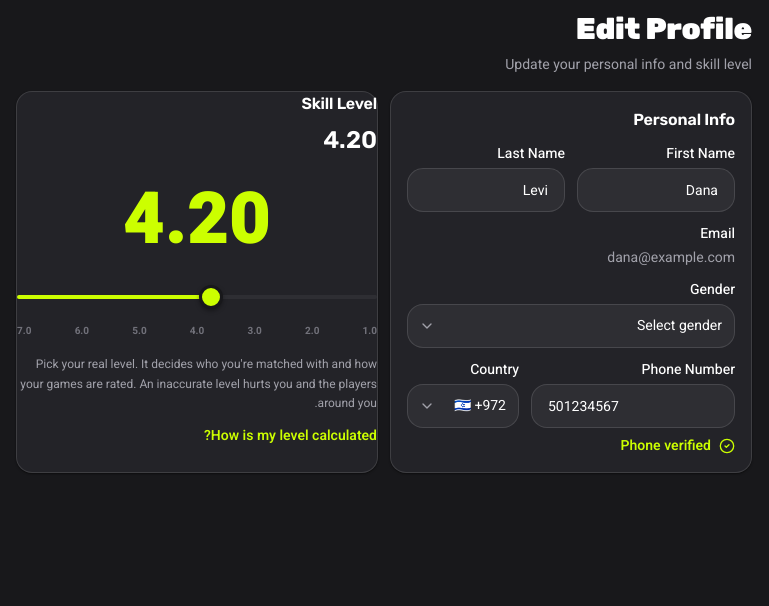
Test case: EditProfilePage — validation › rejects phone with non-digit characters
In the field labelled "Phone Number": (633, 406) x1=531 y1=384 x2=735 y2=428, type "abc"
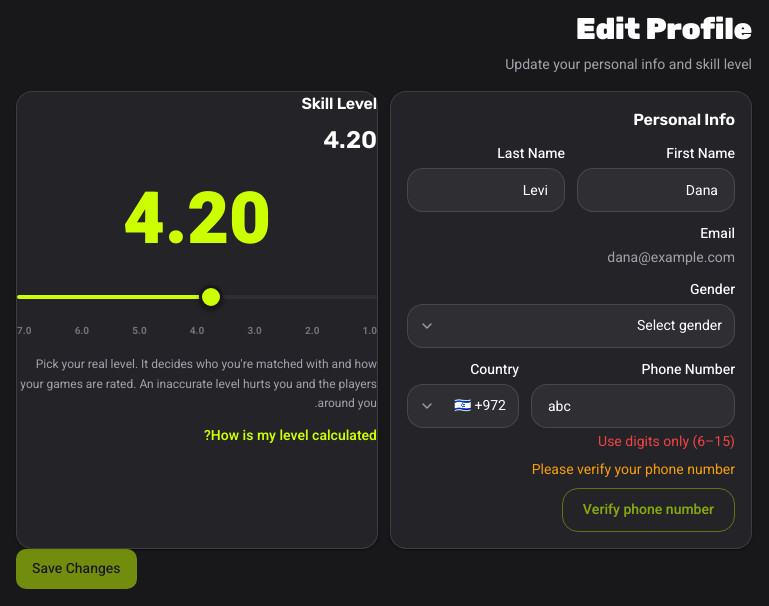
Now the text "Use digits only (6–15)" is shown, box x1=598 y1=431 x2=735 y2=452
Now the button "Save Changes" is disabled, box x1=16 y1=549 x2=136 y2=589
